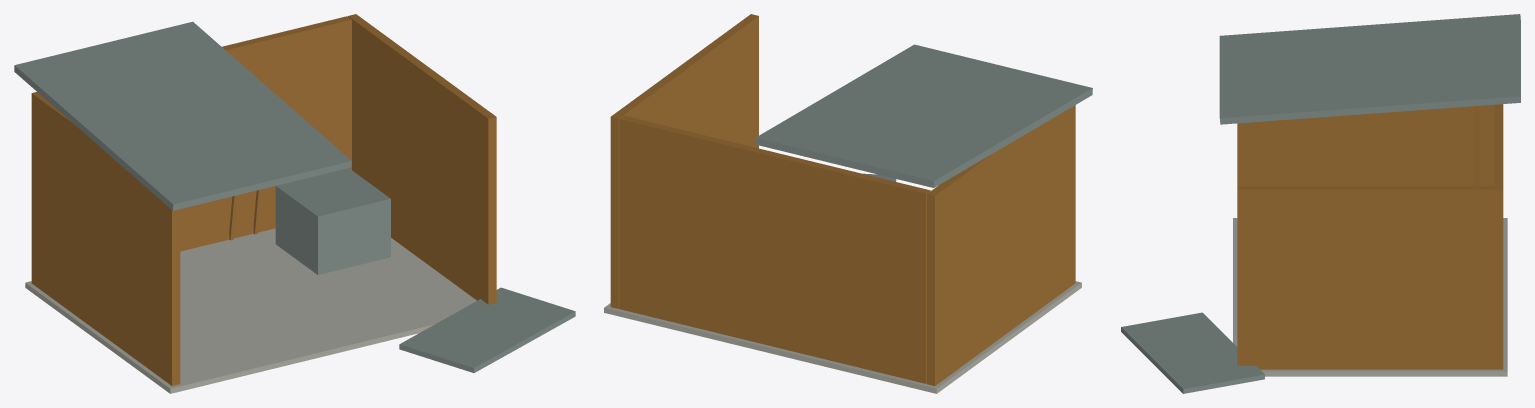
Rendered from SM_CasetaAperos_v4_Abandonada_LOD0.fbx.
3 views of the same model, side by side, from view 1: azimuth 30°, elevation 25°; view 2: azimuth 150°, elevation 25°; view 3: azimuth 270°, elevation 25° (orthographic). The views are drawn at different scales.
Parts seen in each view (by area): view 1: SM_huerta_nules_v24_LOD0; view 2: SM_huerta_nules_v24_LOD0; view 3: SM_huerta_nules_v24_LOD0.
Part boxes in pixels (x1,y1,x2,y2): SM_huerta_nules_v24_LOD0: [14, 14, 575, 393]; SM_huerta_nules_v24_LOD0: [604, 14, 1092, 393]; SM_huerta_nules_v24_LOD0: [1121, 14, 1520, 393].
Bounding box in the file's own units: 4.72 × 2.58 × 4.51.
